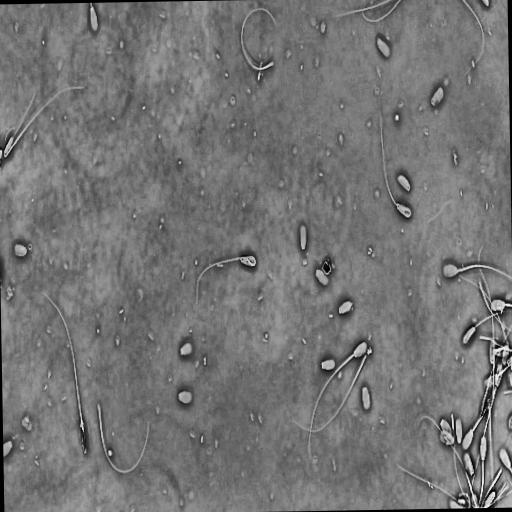coiled-tail: (380, 104, 411, 218), (196, 256, 256, 303), (463, 310, 511, 343), (473, 396, 491, 431), (398, 206, 410, 216), (464, 330, 472, 342)
folded-tail: (4, 87, 82, 158)
loose-head: (332, 296, 359, 324), (429, 77, 449, 114), (375, 29, 394, 67), (173, 336, 196, 367), (393, 167, 415, 199), (175, 380, 194, 414), (311, 265, 332, 291), (359, 379, 374, 415), (10, 235, 30, 262), (297, 218, 310, 255), (316, 355, 337, 377), (462, 451, 475, 478), (439, 416, 453, 440), (439, 429, 455, 447), (455, 417, 464, 446)
loose-tail: (291, 352, 368, 434), (97, 399, 150, 476), (476, 236, 498, 403), (240, 6, 277, 72), (460, 0, 485, 79), (332, 0, 394, 19), (360, 0, 402, 25)
normal: (39, 285, 89, 459), (307, 338, 368, 463), (2, 83, 87, 159), (378, 96, 413, 220), (193, 249, 259, 314), (434, 256, 512, 285), (460, 392, 493, 453), (463, 307, 512, 346)
